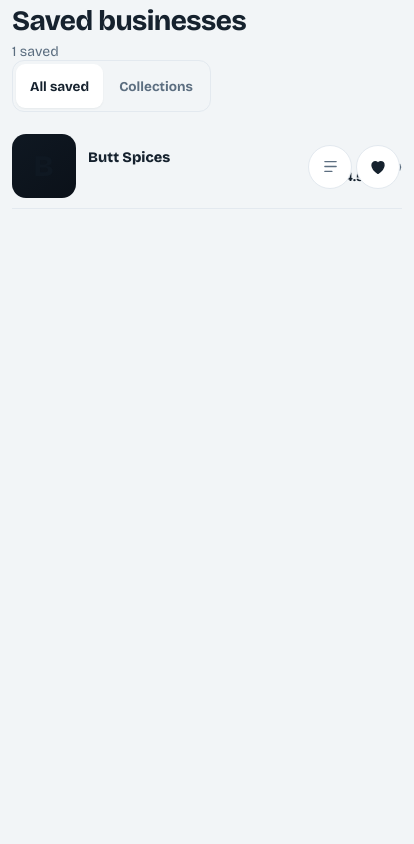
Test: SavedBusinessesScreen › keeps the row and shows an error toast when unsave fails
Expected: the text "Butt Spices" is shown, [88,149,170,166]
Click the button named "Remove Butt Spices from saved" at (378, 167), box [356,145,400,189]
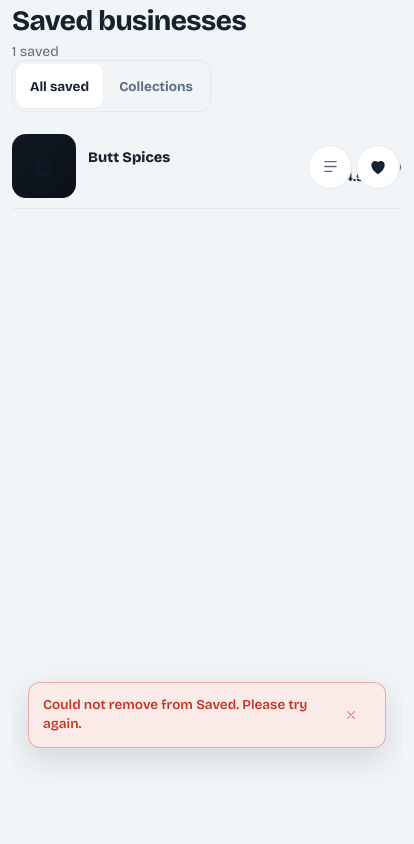
Expected: the text "Butt Spices" is shown, [88,149,170,166]
Now the text "Could not remove from Saved. Please try again." is shown, box [43,696,321,734]
